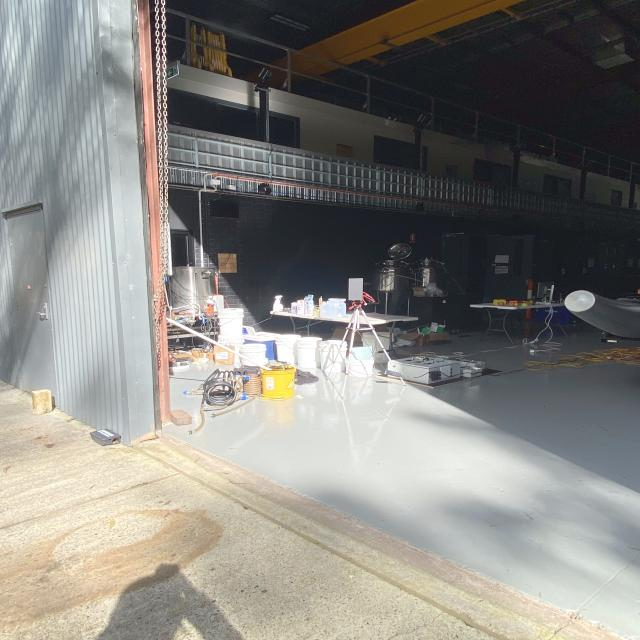matrix: (348, 277, 364, 301)
